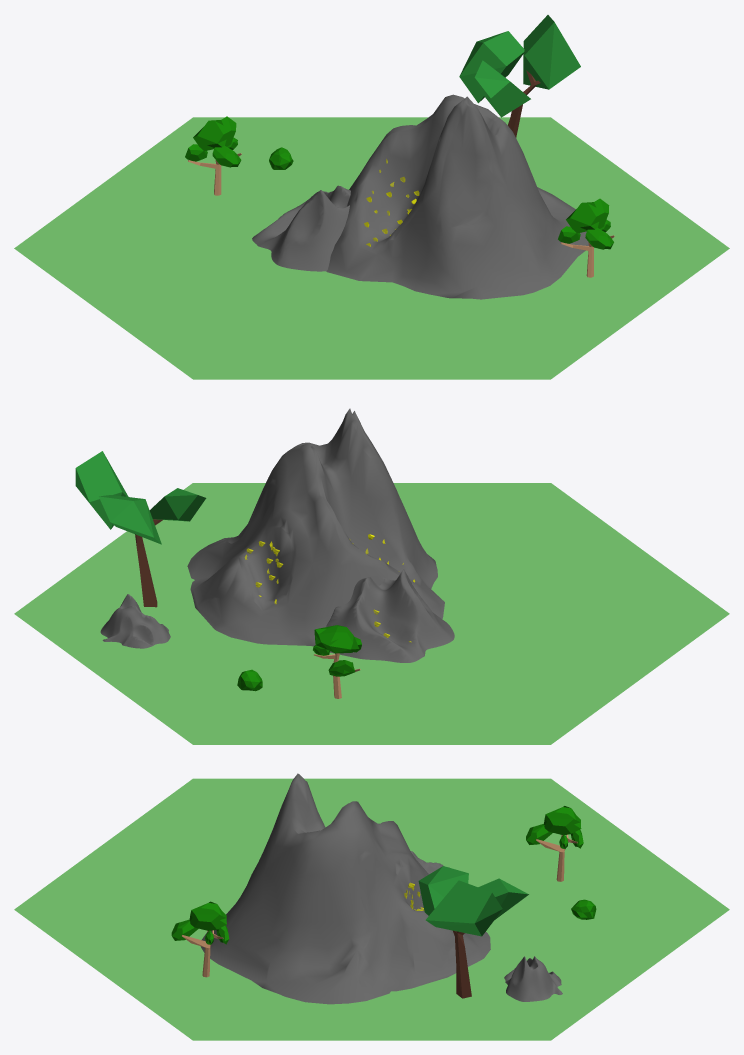
The model's file is Hexagone ressource or.fbx.
3 renders of one model, top to bottom at view 1: azimuth 30°, elevation 25°; view 2: azimuth 150°, elevation 25°; view 3: azimuth 270°, elevation 25°, orthographic.
Parts seen in each view (by area): view 1: Landscape.002; view 2: Landscape.002; view 3: Landscape.002.
Boxes of the visible parts, box(x1,y1,x2,y2) form: Landscape.002: box(14, 15, 729, 379); Landscape.002: box(14, 408, 729, 744); Landscape.002: box(14, 773, 729, 1040).
Size of the model in its own units: 17.32 by 20 by 5.23.
